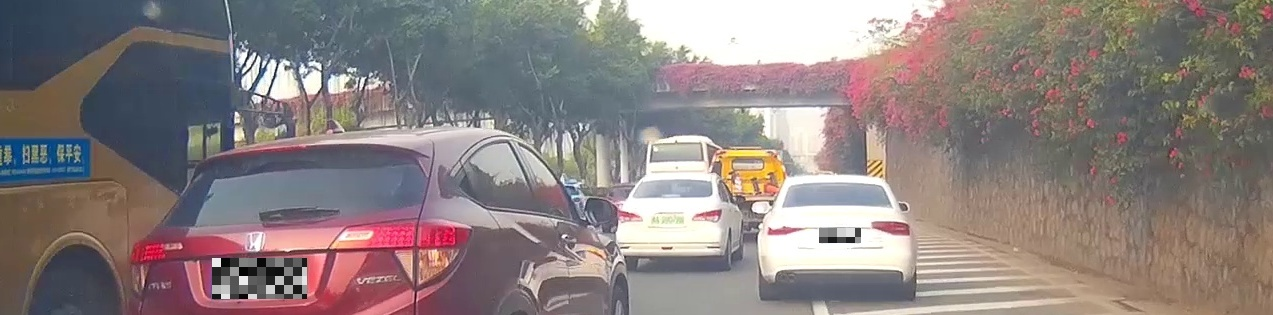L_light: (126, 239, 184, 302), (767, 224, 807, 236), (617, 209, 643, 223)
R_light: (327, 217, 472, 291), (871, 221, 910, 236), (692, 209, 722, 223)
T_light: (258, 145, 307, 152), (822, 183, 849, 186), (661, 194, 680, 198)
day-left: (758, 174, 917, 301)
day-no: (126, 127, 475, 315), (615, 173, 724, 270)
plate_1: (212, 258, 307, 299)
plate_2: (819, 228, 861, 243)
